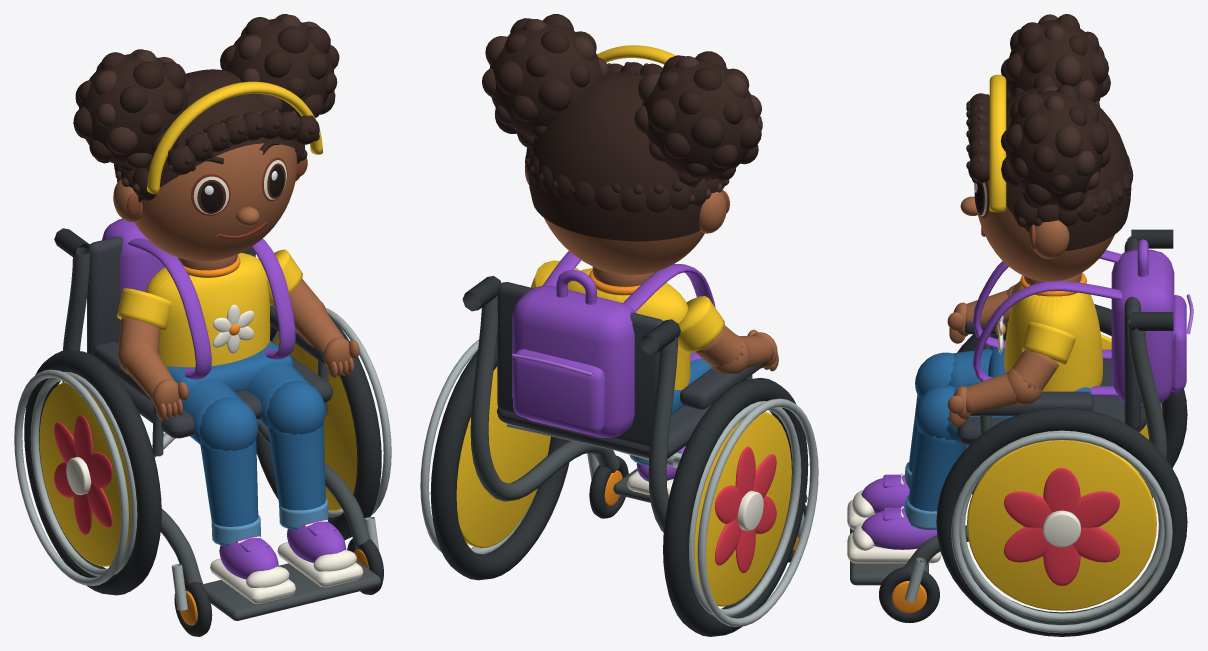
The model's file is child_wheelchair.glb.
3 views of the same model, side by side, from view 1: azimuth 30°, elevation 25°; view 2: azimuth 150°, elevation 25°; view 3: azimuth 270°, elevation 25° (orthographic). The views are drawn at different scales.
Visible parts, largest first — view 1: head_surface, wheel_-1_tire, yellow_tshirt, wheel_-1_orange_guard, wheel_1_tire, wheel_-1_handrim, puff_L_core, jeans_shin_1, jeans_shin_-1, hair_scalp, chair_footrest, chair_backrest (+49 smaller); view 2: hair_scalp, wheel_-1_tire, backpack_body, wheel_1_tire, wheel_-1_orange_guard, wheel_1_orange_guard, backpack_pocket, frame_1, puff_L_core, chair_backrest, wheel_-1_handrim, puff_R_core (+31 smaller); view 3: wheel_1_orange_guard, wheel_1_tire, yellow_tshirt, backpack_body, wheel_1_handrim, head_surface, puff_R_core, hair_scalp, wheel_1_silver_rim, frame_1, jeans_shin_1, puff_L_core (+41 smaller).
Boxes of the visible parts, left/top/right/bottom form: head_surface: left=134, top=143, right=297, bottom=261; wheel_-1_tire: left=24, top=350, right=161, bottom=595; yellow_tshirt: left=145, top=252, right=270, bottom=367; wheel_-1_orange_guard: left=39, top=382, right=131, bottom=566; wheel_1_tire: left=256, top=312, right=381, bottom=540; wheel_-1_handrim: left=14, top=369, right=128, bottom=585; puff_L_core: left=79, top=53, right=188, bottom=165; jeans_shin_1: left=267, top=421, right=325, bottom=510; jeans_shin_-1: left=200, top=438, right=258, bottom=526; hair_scalp: left=117, top=69, right=300, bottom=202; chair_footrest: left=202, top=560, right=381, bottom=620; chair_backrest: left=87, top=236, right=247, bottom=355; hair_scalp: left=528, top=72, right=702, bottom=241; wheel_-1_tire: left=663, top=378, right=808, bottom=636; backpack_body: left=512, top=285, right=636, bottom=437; wheel_1_tire: left=430, top=339, right=569, bottom=580; wheel_-1_orange_guard: left=694, top=411, right=791, bottom=606; wheel_1_orange_guard: left=456, top=366, right=550, bottom=547; backpack_pocket: left=513, top=349, right=605, bottom=433; frame_1: left=470, top=295, right=619, bottom=501; puff_L_core: left=642, top=60, right=757, bottom=178; chair_backrest: left=497, top=282, right=663, bottom=446; wheel_-1_handrim: left=697, top=398, right=818, bottom=626; puff_R_core: left=489, top=23, right=602, bottom=137; wheel_1_orange_guard: left=967, top=440, right=1156, bottom=610; wheel_1_tire: left=936, top=407, right=1187, bottom=636; yellow_tshirt: left=1004, top=285, right=1102, bottom=391; backpack_body: left=1111, top=249, right=1174, bottom=405; wheel_1_handrim: left=951, top=432, right=1172, bottom=633; head_surface: left=974, top=179, right=1114, bottom=281; puff_R_core: left=1006, top=90, right=1103, bottom=205; hair_scalp: left=1006, top=87, right=1131, bottom=250; wheel_1_silver_rim: left=959, top=430, right=1164, bottom=621; frame_1: left=903, top=318, right=1167, bottom=574; jeans_shin_1: left=908, top=428, right=966, bottom=511; puff_L_core: left=1006, top=20, right=1103, bottom=102.
Bounding box in the file's own units: 0.6711 × 1.25 × 0.7468.
